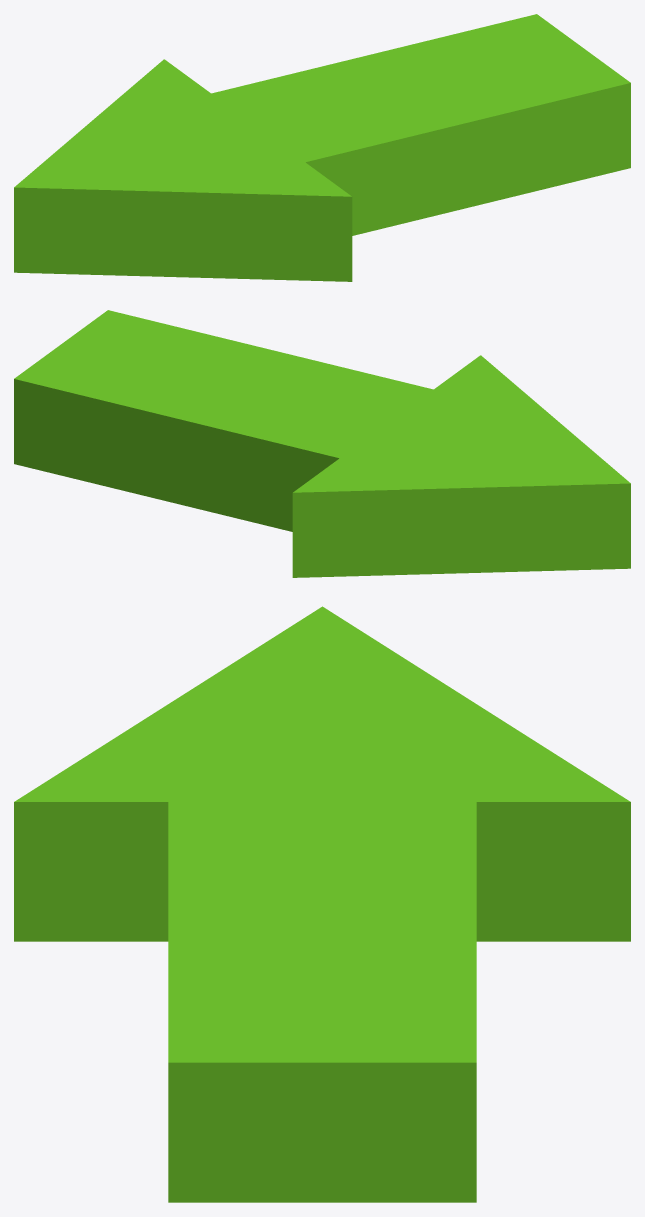
The model's file is Arrow.fbx.
The picture shows the model from 3 angles, top to bottom: view 1: azimuth 30°, elevation 25°; view 2: azimuth 150°, elevation 25°; view 3: azimuth 270°, elevation 25°; orthographic projection. The views are drawn at different scales.
Parts seen in each view (by area): view 1: Cube; view 2: Cube; view 3: Cube.
Part boxes in pixels (x1,y1,x2,y2): Cube: (14,14,630,281); Cube: (14,310,630,577); Cube: (14,606,630,1202).
Bounding box in the file's own units: 350 × 50 × 200.
